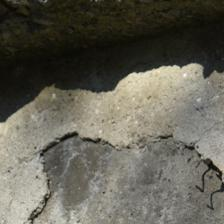Crack: (29, 126, 220, 221)
